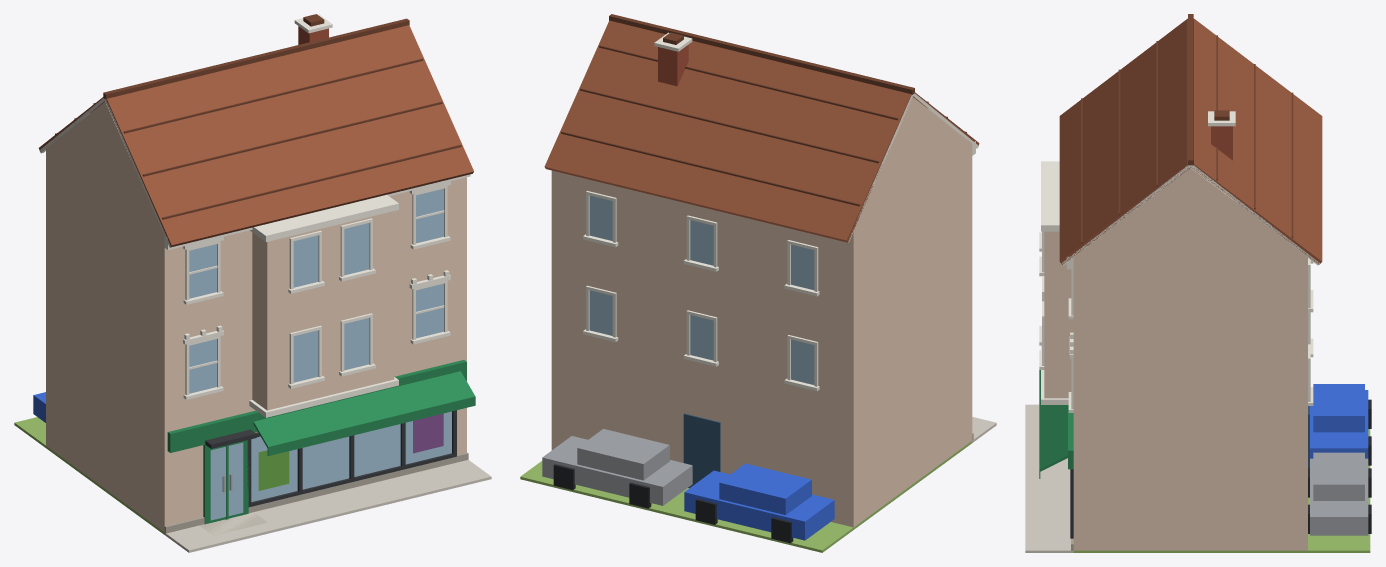
File: Blok_duz_3k_4_Hafif.fbx
3 views of the same model, side by side, from view 1: azimuth 30°, elevation 25°; view 2: azimuth 150°, elevation 25°; view 3: azimuth 270°, elevation 25° (orthographic).
Parts seen in each view (by area): view 1: Blok_duz_3k_4_Hafif; view 2: Blok_duz_3k_4_Hafif; view 3: Blok_duz_3k_4_Hafif.
Part boxes in pixels (x1,y1,x2,y2): Blok_duz_3k_4_Hafif: (14,14,491,552); Blok_duz_3k_4_Hafif: (520,14,996,552); Blok_duz_3k_4_Hafif: (1025,14,1371,552).
Bounding box in the file's own units: 10.04 × 12.9 × 10.04.
